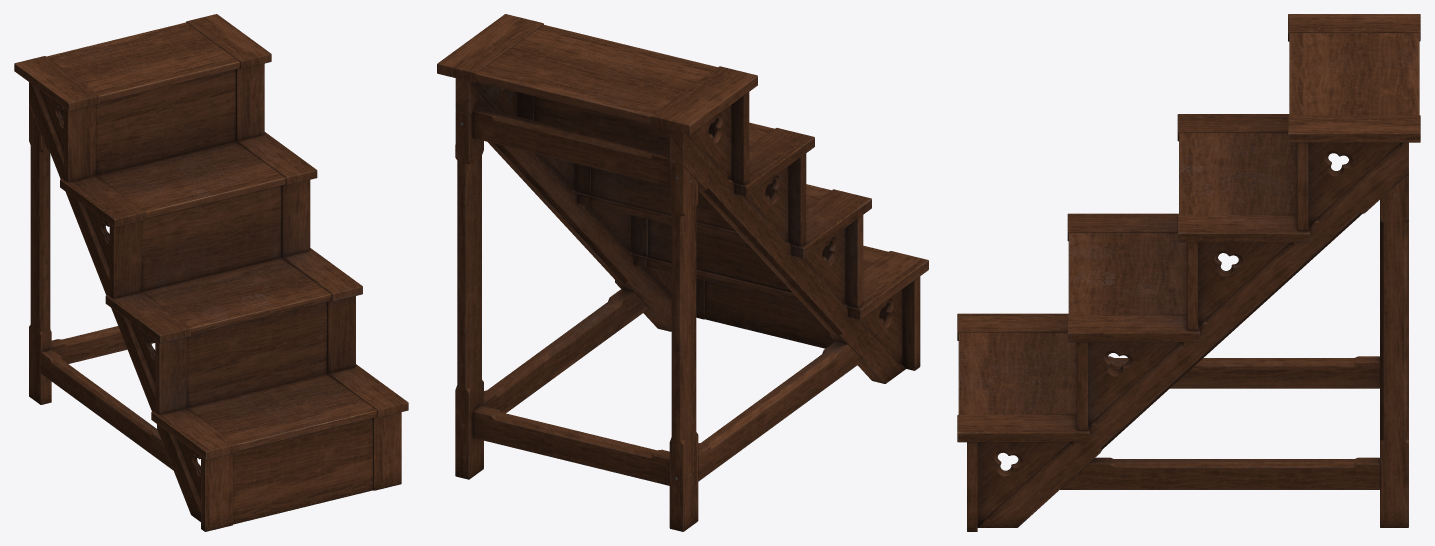
Rendered from library_stairs.glb.
3 views of the same model, side by side, from view 1: azimuth 30°, elevation 25°; view 2: azimuth 150°, elevation 25°; view 3: azimuth 270°, elevation 25° (orthographic). The views are drawn at different scales.
Parts seen in each view (by area): view 1: Sidewalls, Steps, Frame, Sidewalls_s; view 2: Frame, Steps, Sidewalls, Sidewalls_s; view 3: Steps, Frame, Sidewalls_s, Sidewalls.
Part boxes in pixels (box(x1,y1,x2,y2)): Sidewalls: box(64, 63, 401, 531); Steps: box(14, 14, 408, 459); Frame: box(29, 82, 200, 521); Sidewalls_s: box(39, 90, 200, 500); Frame: box(455, 78, 905, 531); Steps: box(437, 14, 928, 319); Sidewalls: box(517, 92, 920, 370); Sidewalls_s: box(473, 82, 902, 364); Steps: box(957, 14, 1420, 442); Frame: box(977, 142, 1408, 527); Sidewalls_s: box(977, 142, 1399, 525); Sidewalls: box(967, 142, 1308, 531).
Size of the model in its own units: 0.65 by 1.02 by 1.06.
Materials: 1 (1 with a texture image).
